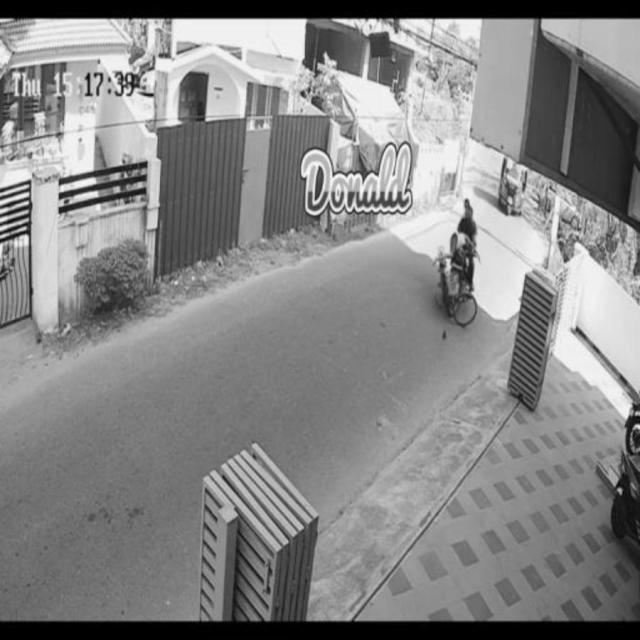accident: (430, 196, 481, 327)
